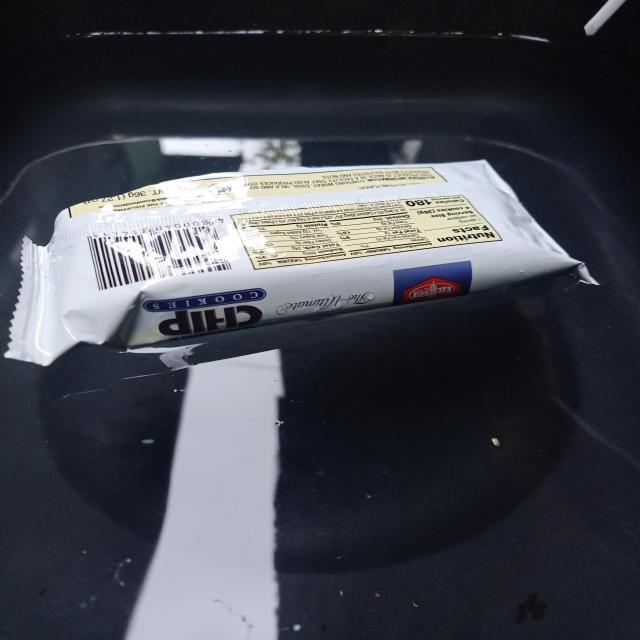Plastic Wrapper: (5, 160, 598, 364)
